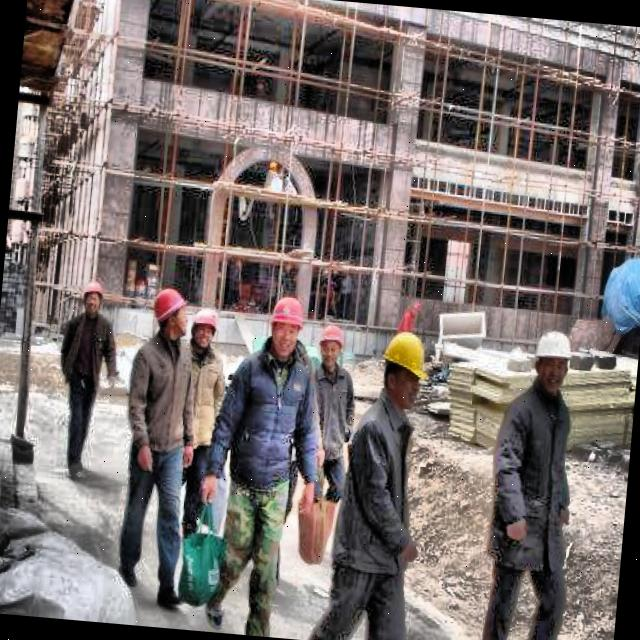helmet: (376, 330, 432, 414), (530, 324, 574, 392), (266, 292, 304, 358), (150, 280, 191, 337), (315, 318, 346, 367), (188, 304, 219, 352), (78, 278, 103, 320)
